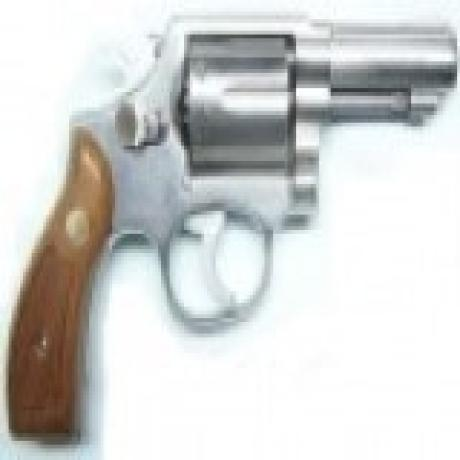weapon: (3, 7, 455, 460)
